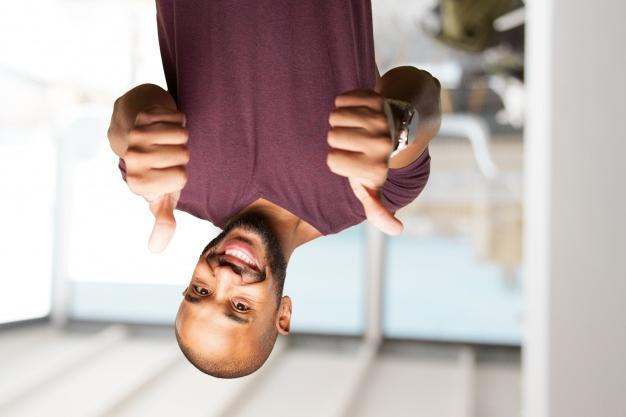thumbsdown: (327, 89, 403, 236), (124, 108, 190, 255)
